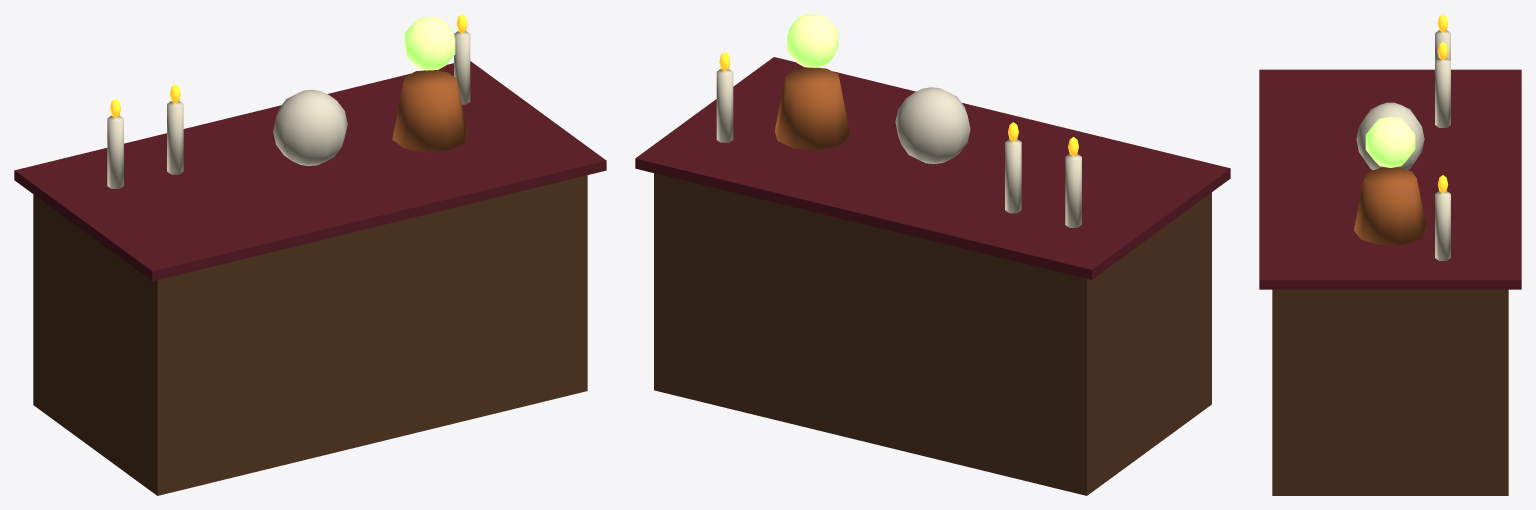
The model's file is prop_altar_dukun.glb.
3 views of the same model, side by side, from view 1: azimuth 30°, elevation 25°; view 2: azimuth 150°, elevation 25°; view 3: azimuth 270°, elevation 25° (orthographic). The views are drawn at different scales.
Parts seen in each view (by area): view 1: altar_dukun; view 2: altar_dukun; view 3: altar_dukun.
Boxes of the visible parts, x1=… form: altar_dukun: x1=14, y1=14, x2=606, y2=495; altar_dukun: x1=635, y1=14, x2=1230, y2=495; altar_dukun: x1=1259, y1=14, x2=1521, y2=495.
Bounding box in the file's own units: 1.9 × 1.4 × 1.
